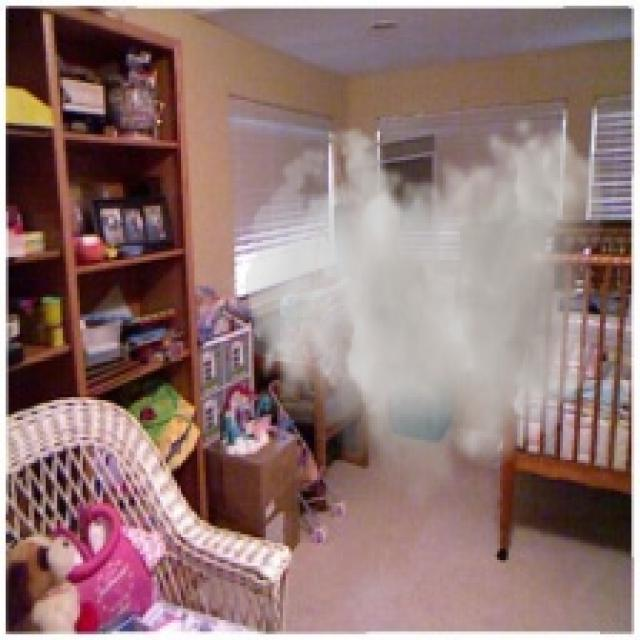smoke: (245, 112, 606, 517)
